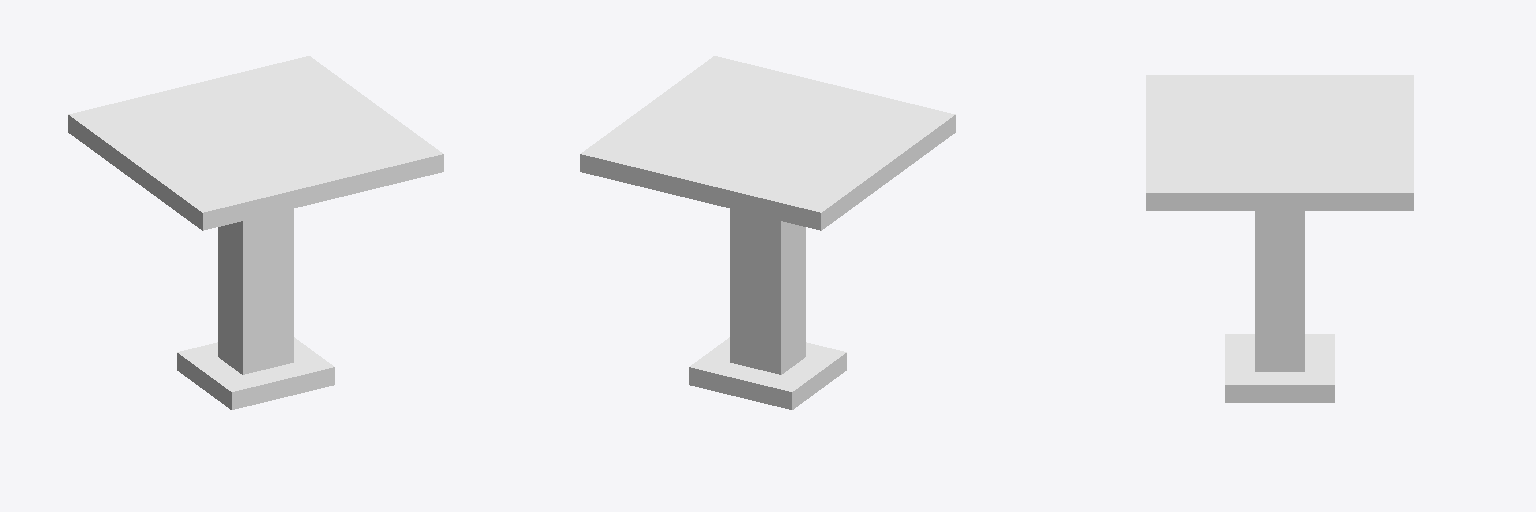
File: square_poker_table.obj
3 views of the same model, side by side, from view 1: azimuth 30°, elevation 25°; view 2: azimuth 150°, elevation 25°; view 3: azimuth 270°, elevation 25° (orthographic).
Parts seen in each view (by area): view 1: square_poker_table; view 2: square_poker_table; view 3: square_poker_table.
Boxes of the visible parts, x1=… form: square_poker_table: x1=68, y1=56, x2=443, y2=409; square_poker_table: x1=580, y1=56, x2=955, y2=409; square_poker_table: x1=1146, y1=75, x2=1413, y2=402.
Size of the model in its own units: 28 by 27 by 27.